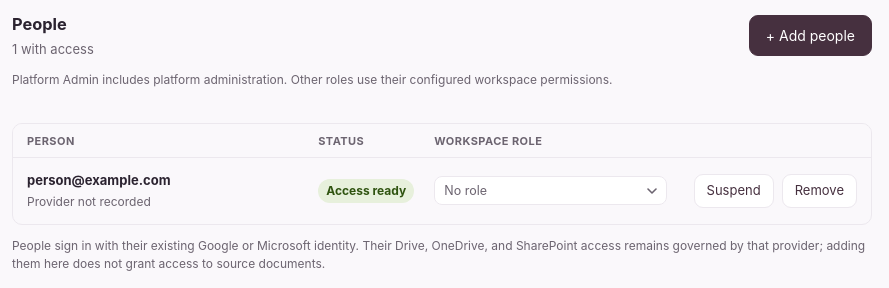
Test: reloads server truth after an atomic save fails
This screenshot has width=889, height=288.
Select "Platform Admin" in the dropdown named "Workspace role for person@example.com" at (551, 191), box [434,176,667,205]
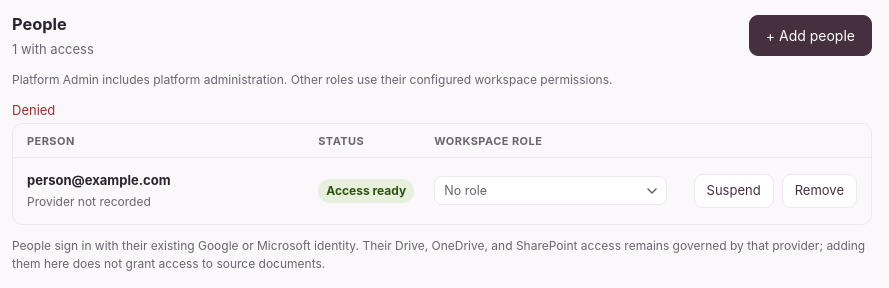
Check: the text "Denied" is shown, box [12,102,55,118]
